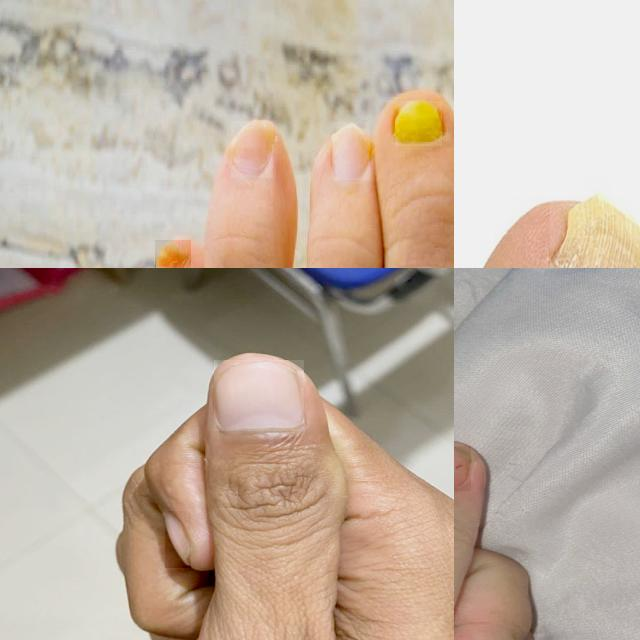diabetes: (550, 196, 640, 268), (232, 121, 273, 178), (332, 123, 370, 180), (396, 102, 442, 146), (156, 241, 191, 268)
sehat: (214, 361, 304, 431), (166, 511, 191, 568)
